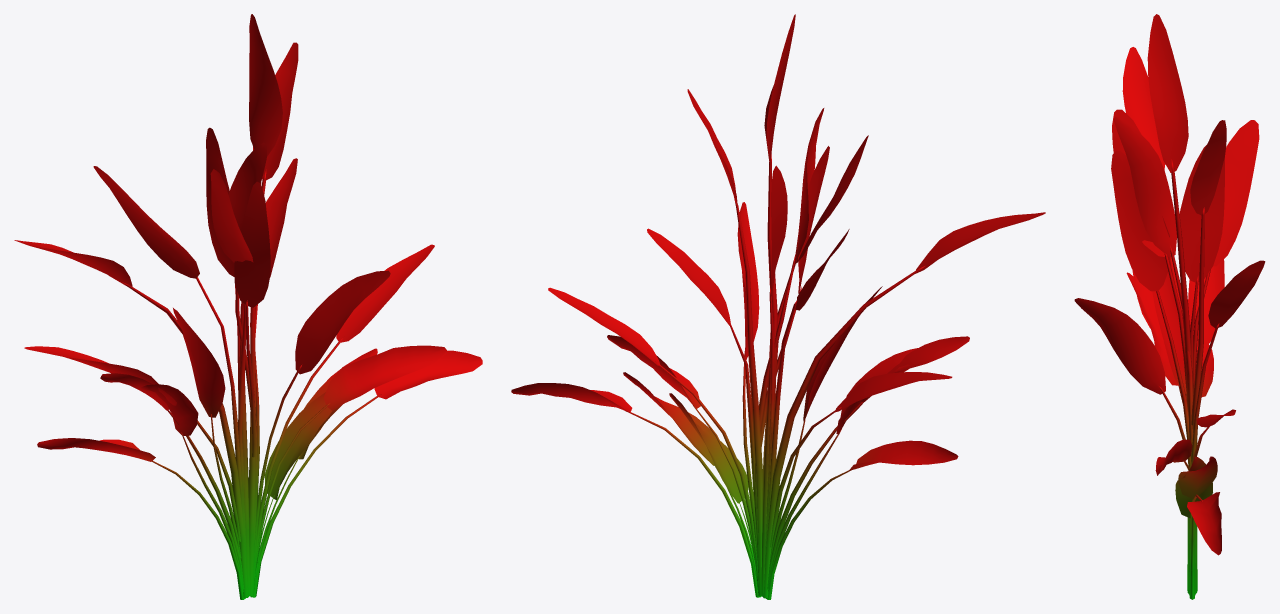
File: Bird Of Paradise_LOD4_Var3_wfypeifha.fbx
The picture shows the model from 3 angles, left to right: view 1: azimuth 30°, elevation 25°; view 2: azimuth 150°, elevation 25°; view 3: azimuth 270°, elevation 25°; orthographic projection. The views are drawn at different scales.
Parts seen in each view (by area): view 1: _dyn8_Var3_LOD4; view 2: _dyn8_Var3_LOD4; view 3: _dyn8_Var3_LOD4.
Boxes of the visible parts, x1=… form: _dyn8_Var3_LOD4: x1=14, y1=14, x2=482, y2=599; _dyn8_Var3_LOD4: x1=511, y1=14, x2=1045, y2=599; _dyn8_Var3_LOD4: x1=1074, y1=14, x2=1265, y2=599.
Bounding box in the file's own units: 134 × 150 × 45.
